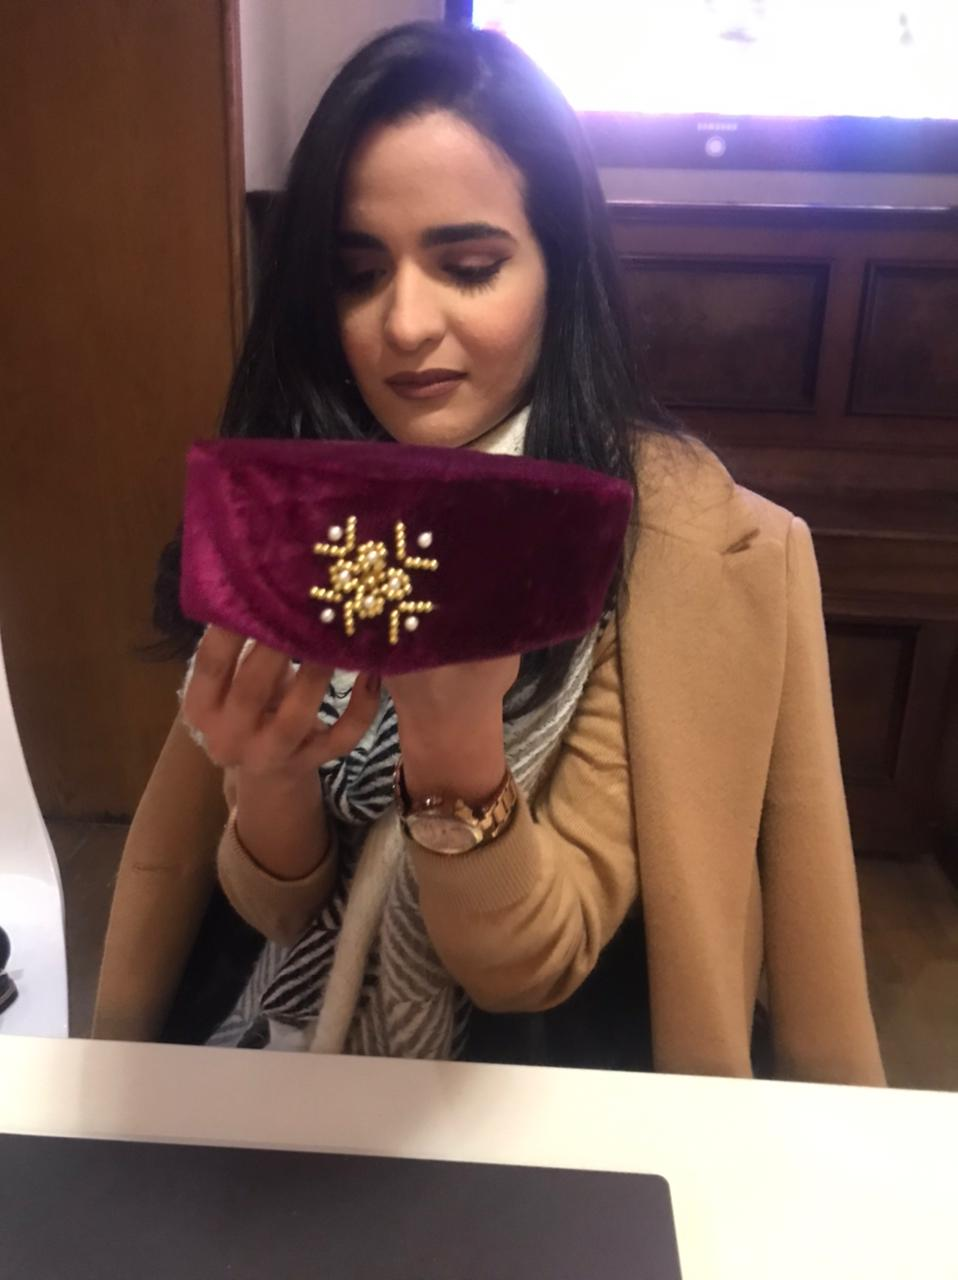chachia: (148, 398, 652, 707)
